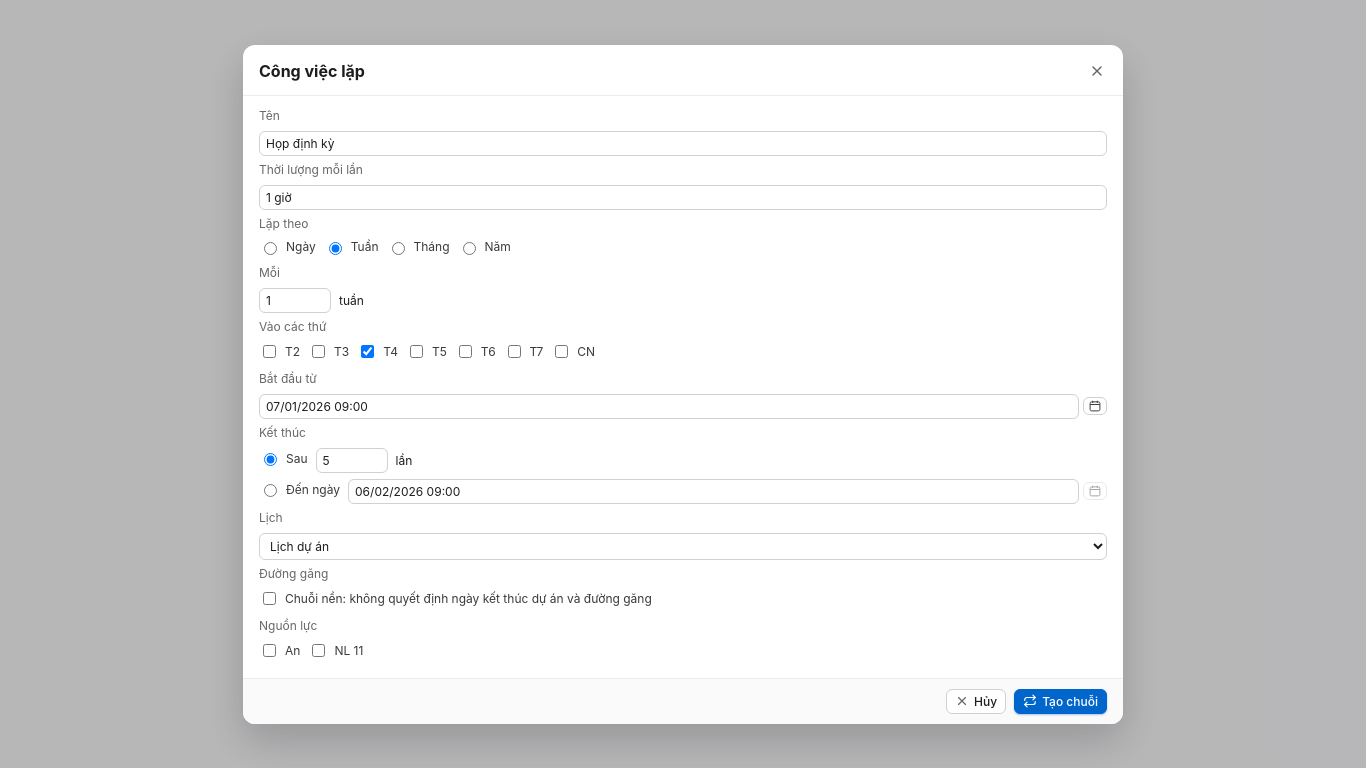
Test: RecurringDialog validation › Thời lượng mỗi lần = abc shows “Thời lượng không hợp lệ”
The width and height of the screenshot is (1366, 768).
Replace the text in the field named "Thời lượng mỗi lần" with "abc" at (683, 197), box [259, 184, 1107, 210]
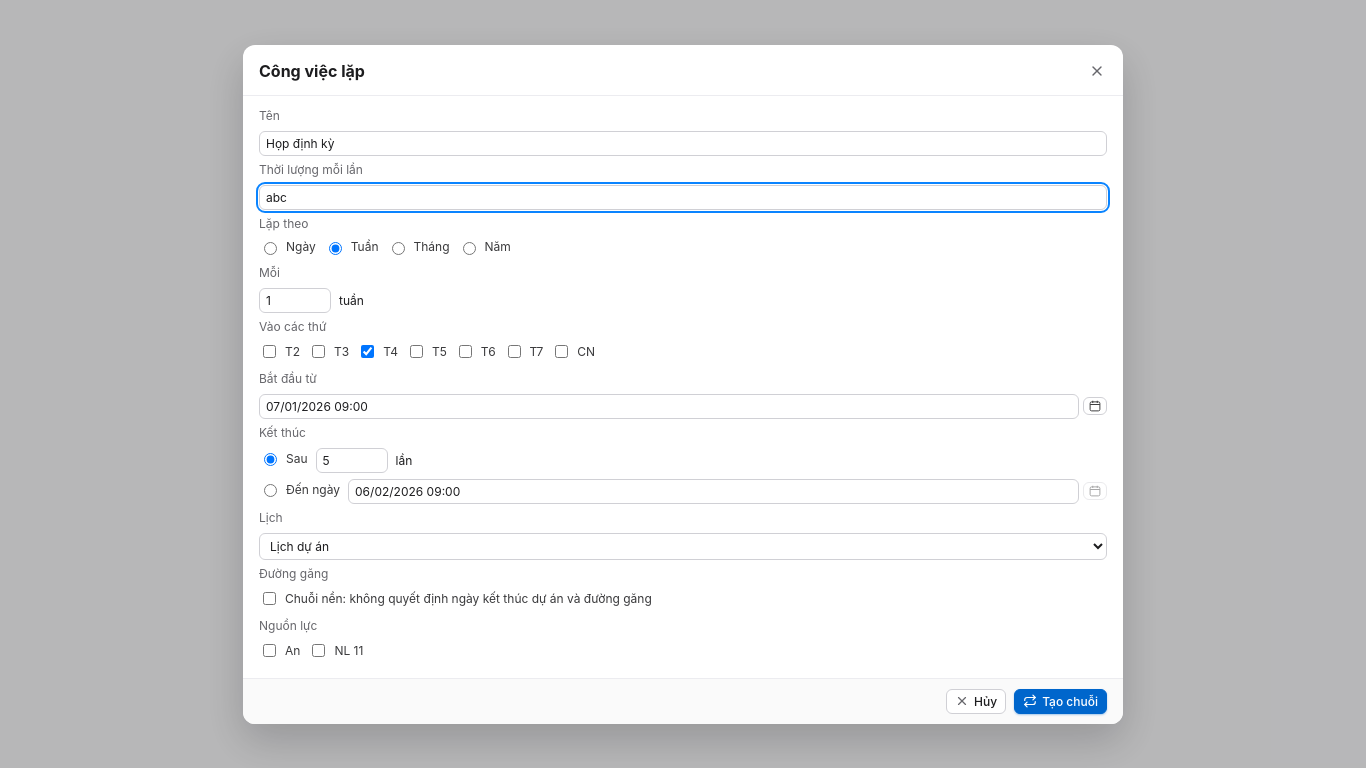
Click the button "Tạo chuỗi" at (1061, 701), box [1014, 688, 1107, 714]
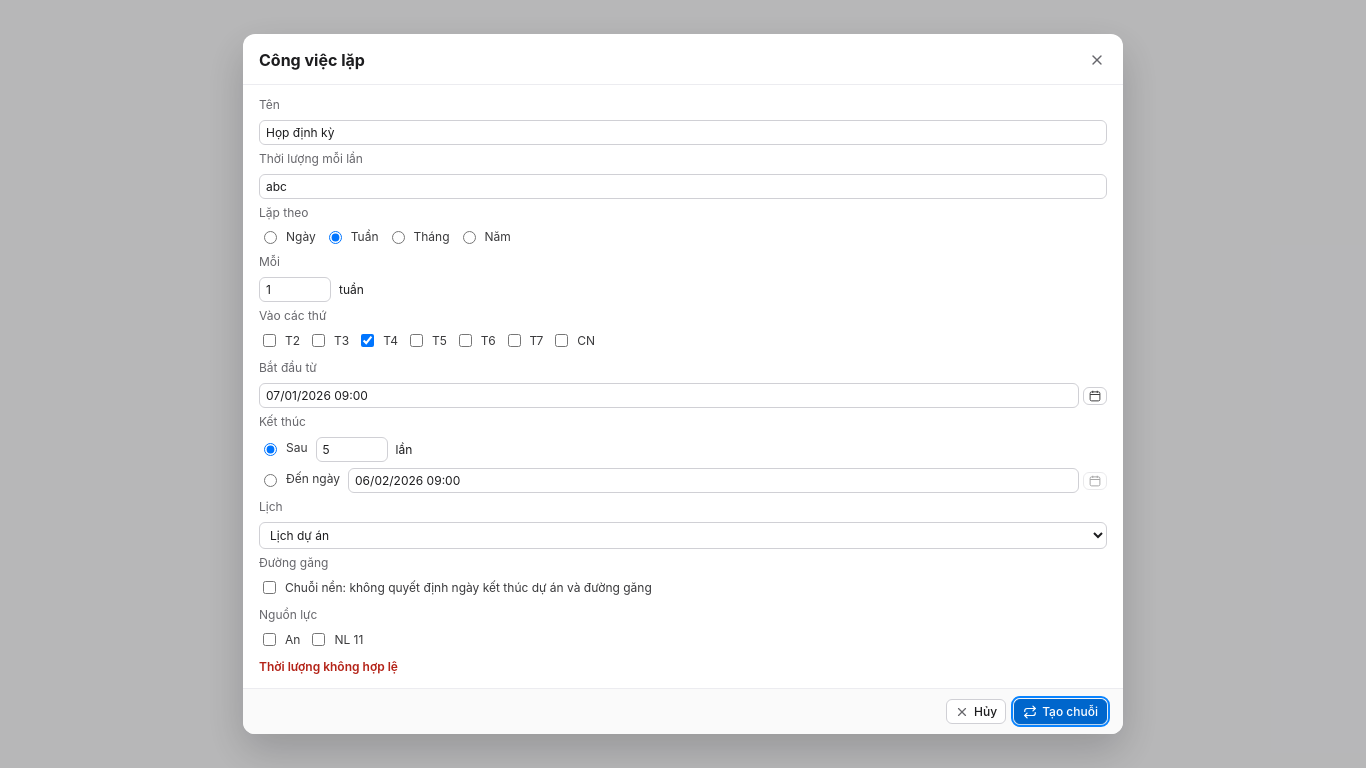
expect the text "Thời lượng không hợp lệ" is shown: met, box [259, 659, 398, 674]
